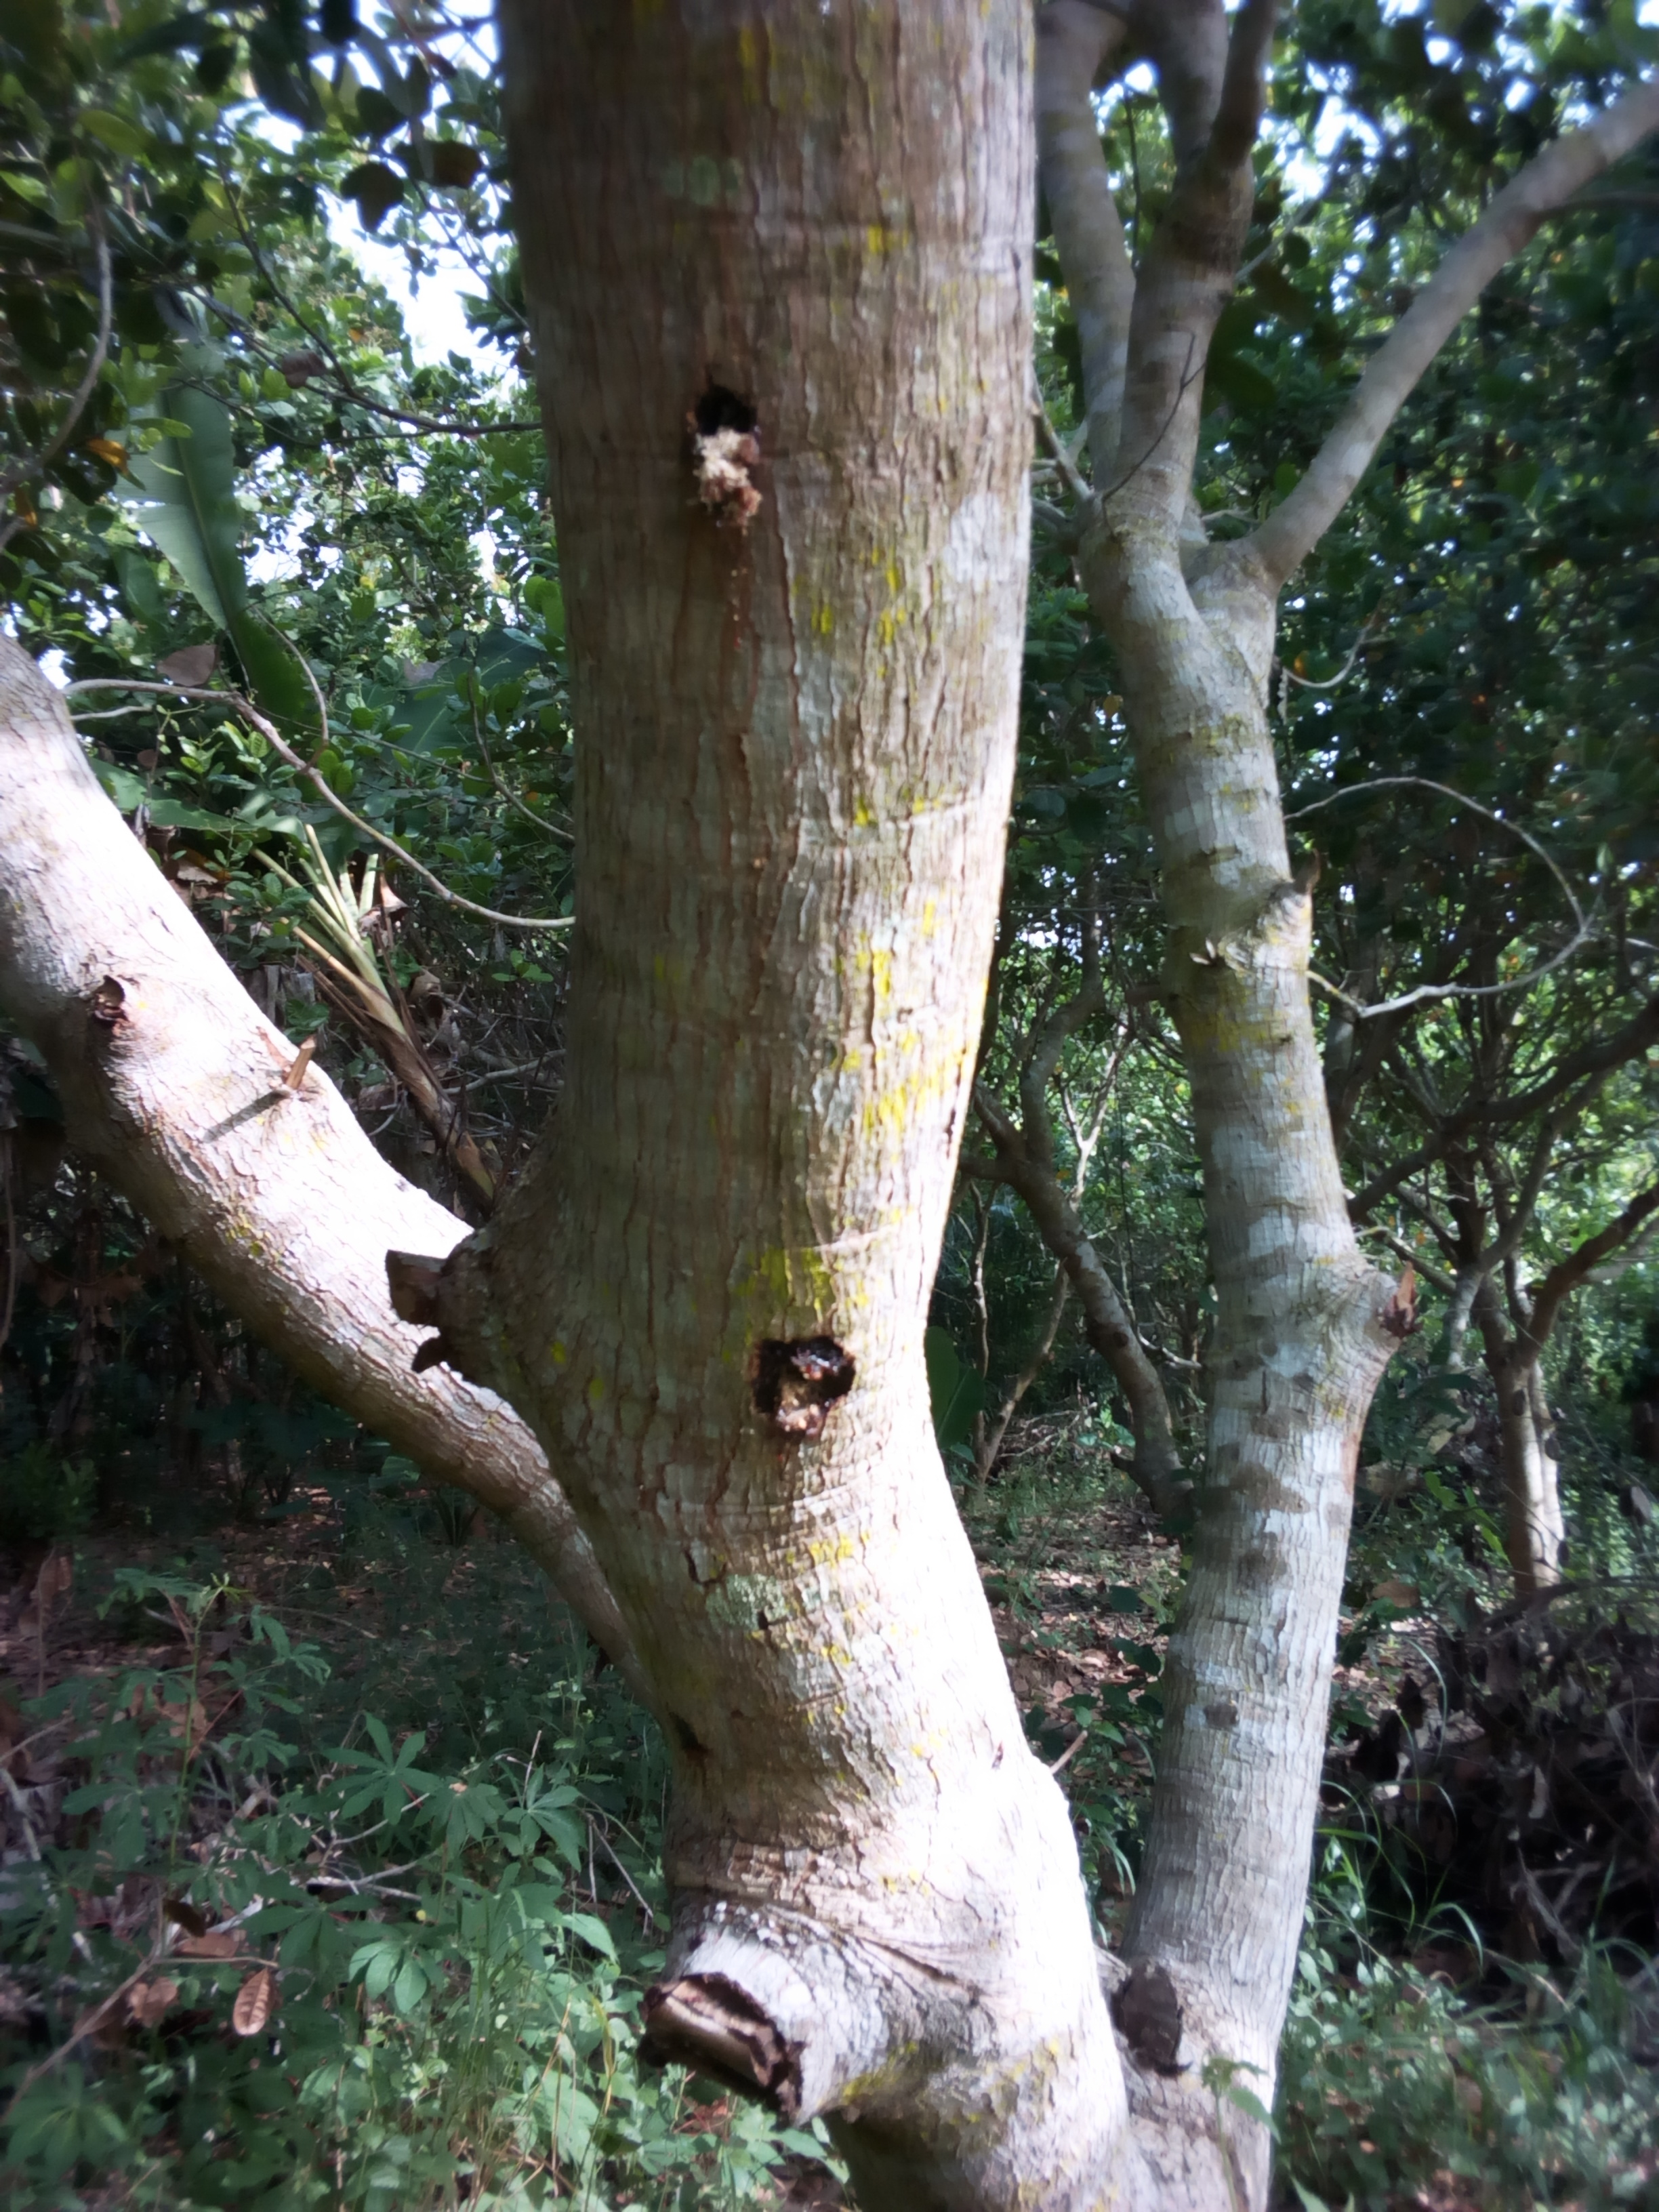Apate terebrans: (626, 343, 887, 641), (701, 1306, 988, 1554)
